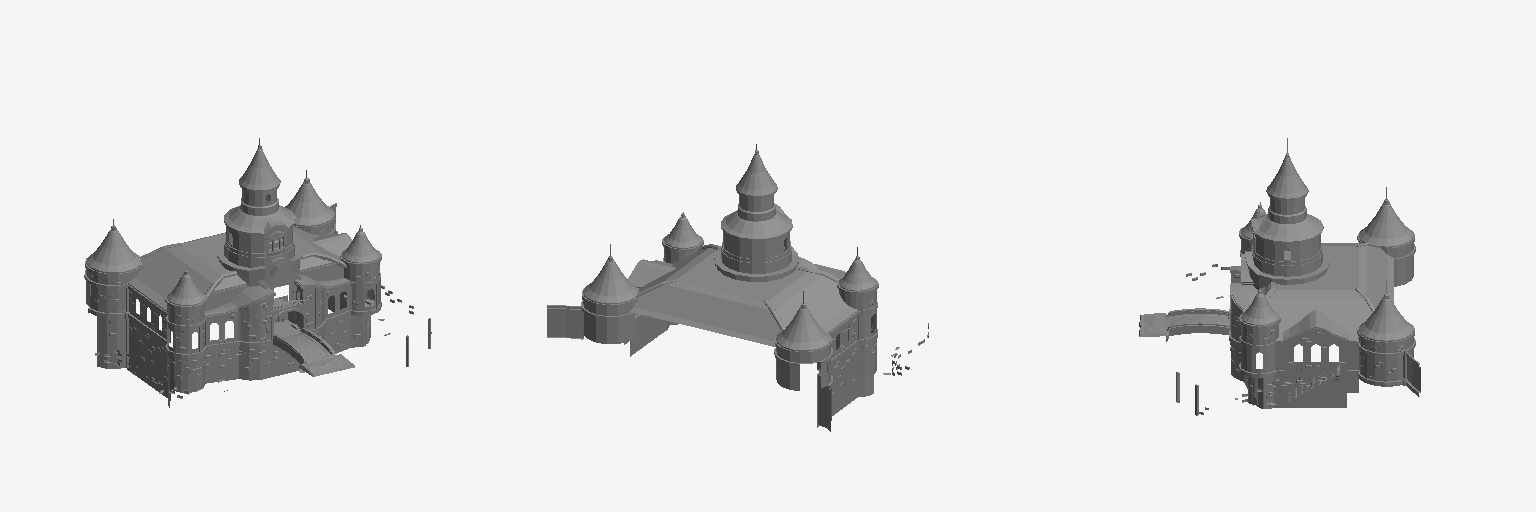
File: Castle.obj
3 views of the same model, side by side, from view 1: azimuth 30°, elevation 25°; view 2: azimuth 150°, elevation 25°; view 3: azimuth 270°, elevation 25° (orthographic).
Parts seen in each view (by area): view 1: Castle; view 2: Castle; view 3: Castle.
Boxes of the visible parts, x1=… form: Castle: x1=84, y1=138, x2=431, y2=407; Castle: x1=547, y1=144, x2=928, y2=431; Castle: x1=1139, y1=138, x2=1420, y2=415.
Bounding box in the file's own units: 73.61 × 56.43 × 59.36.